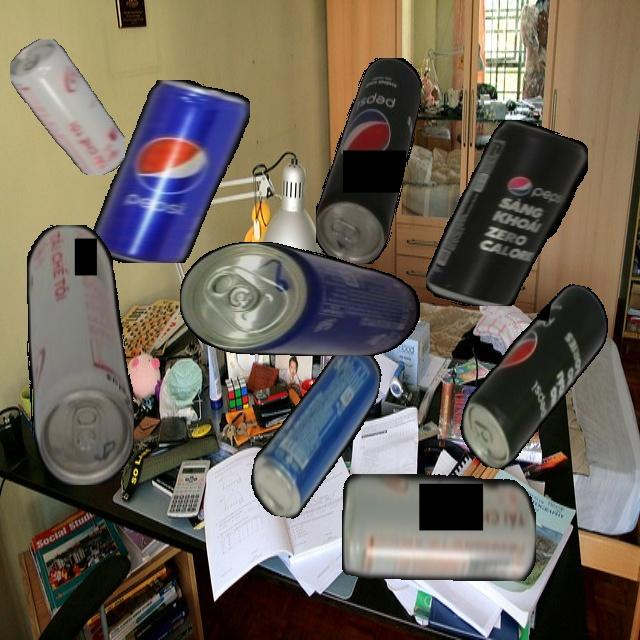debris: (455, 270, 614, 483), (426, 119, 588, 306), (93, 79, 250, 263), (180, 241, 427, 356), (26, 224, 134, 485), (246, 333, 385, 529), (315, 57, 421, 264), (341, 473, 536, 581), (9, 39, 125, 175)
